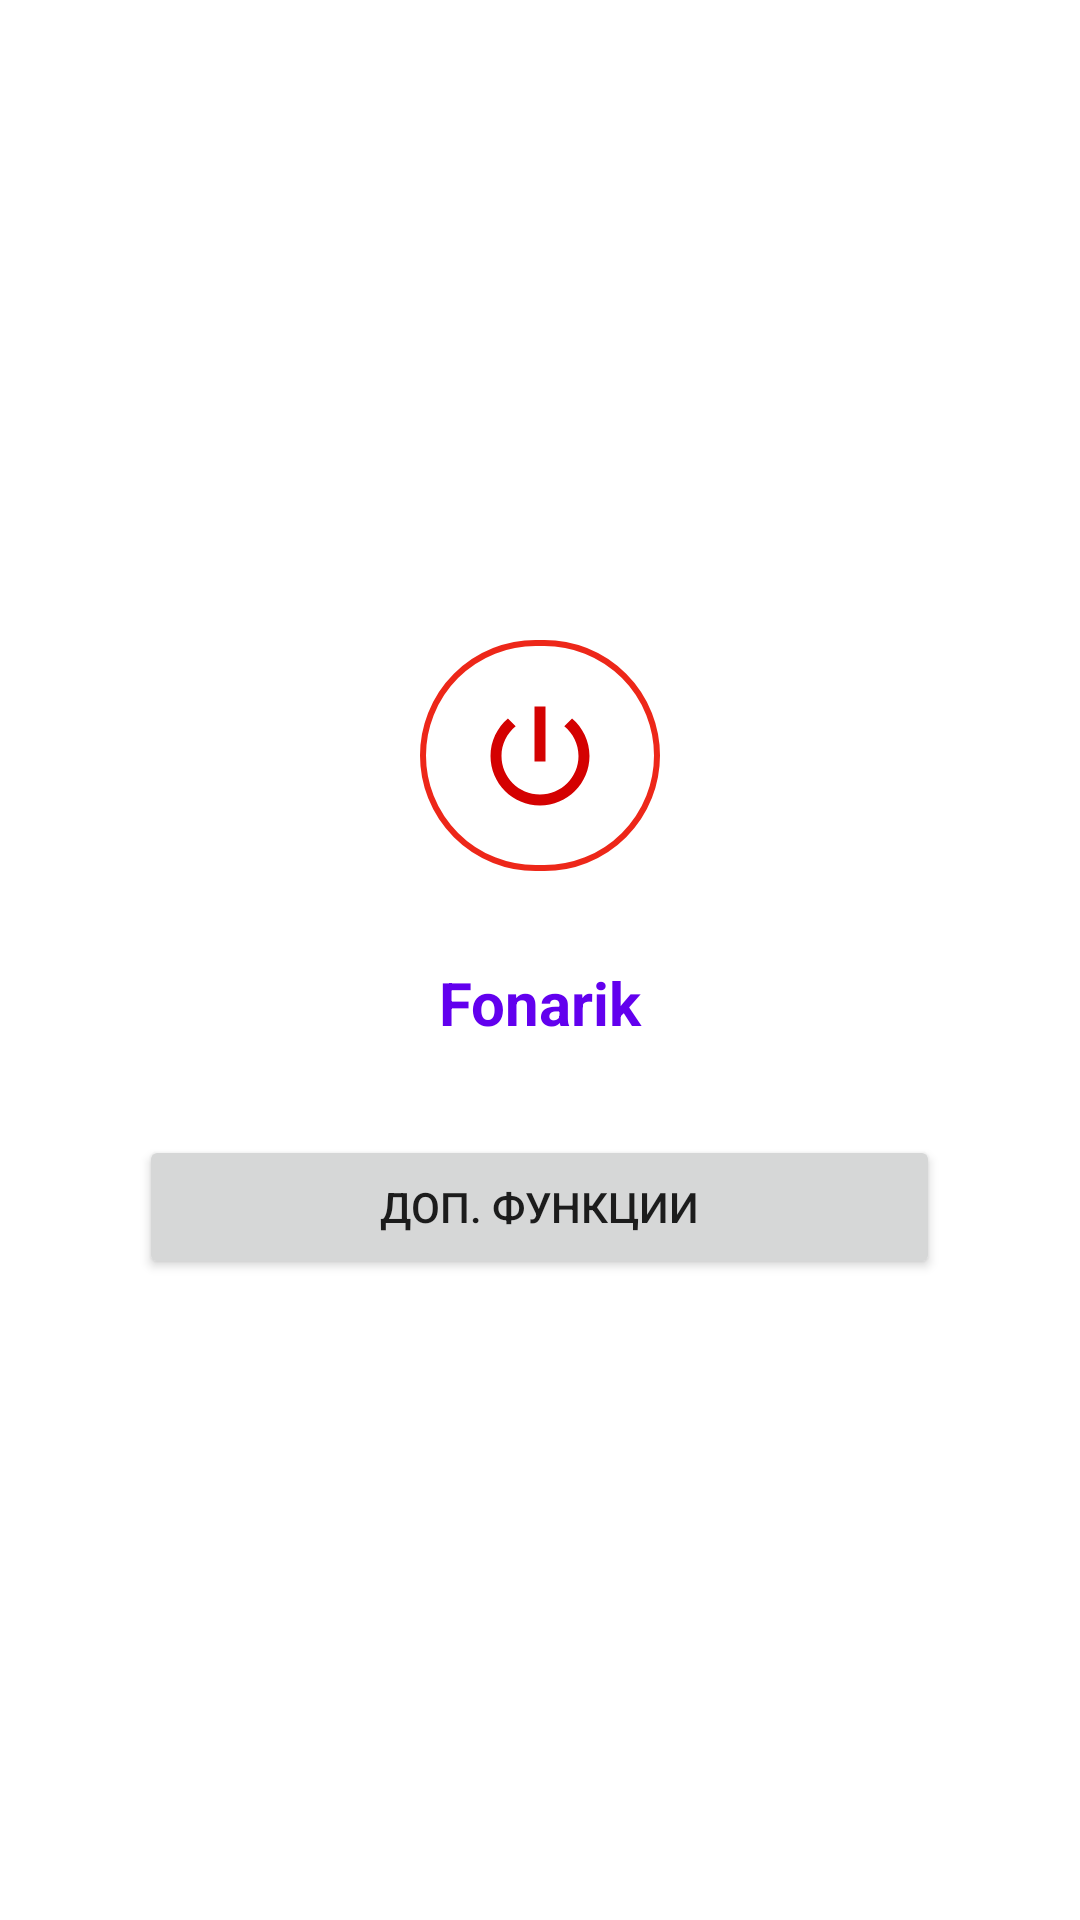

Locate icon controls on the screen. Image size 1080px x 1920px, boxes as bbox=[x1, y1, x2, y2].
power off: bbox=[420, 640, 660, 871]
